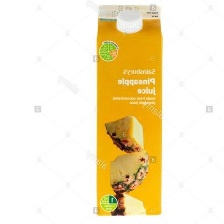carton: (93, 4, 163, 217)
